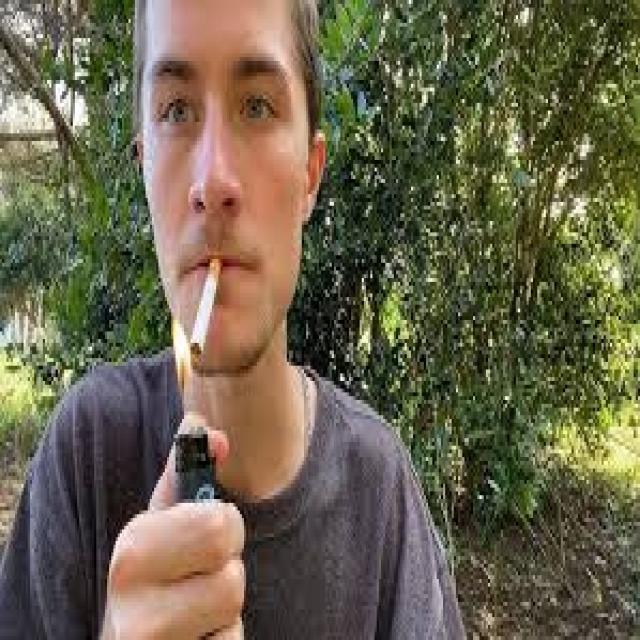fire: (171, 317, 193, 417)
